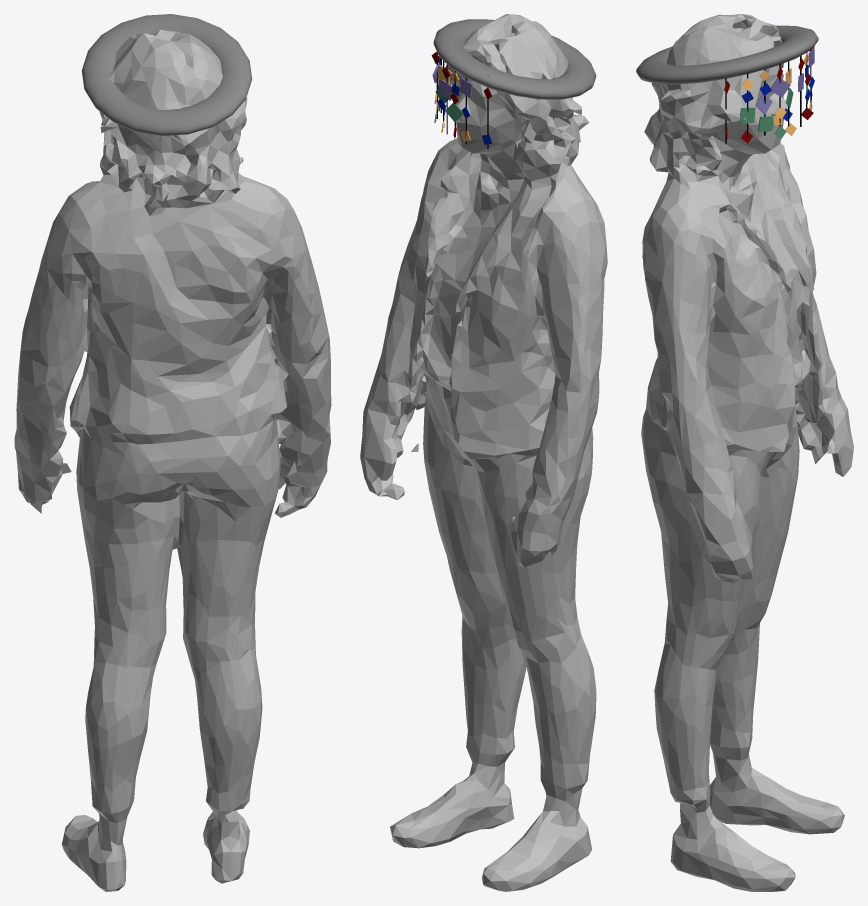
File: prosthetic.glb
3 renders of one model, left to right at view 1: azimuth 30°, elevation 25°; view 2: azimuth 150°, elevation 25°; view 3: azimuth 270°, elevation 25°, orthographic.
Visible parts, largest first — view 1: zainib2_0:Mesh, pTorus1; view 2: zainib2_0:Mesh, pTorus1; view 3: zainib2_0:Mesh, pTorus1.
Part boxes in pixels (x1,y1,x2,y2): zainib2_0:Mesh: [14, 30, 331, 891]; pTorus1: [81, 14, 252, 135]; zainib2_0:Mesh: [360, 14, 607, 891]; pTorus1: [433, 19, 596, 99]; zainib2_0:Mesh: [641, 14, 853, 891]; pTorus1: [636, 25, 818, 84].
Size of the model in its own units: 1.39 by 4.17 by 0.9869.
